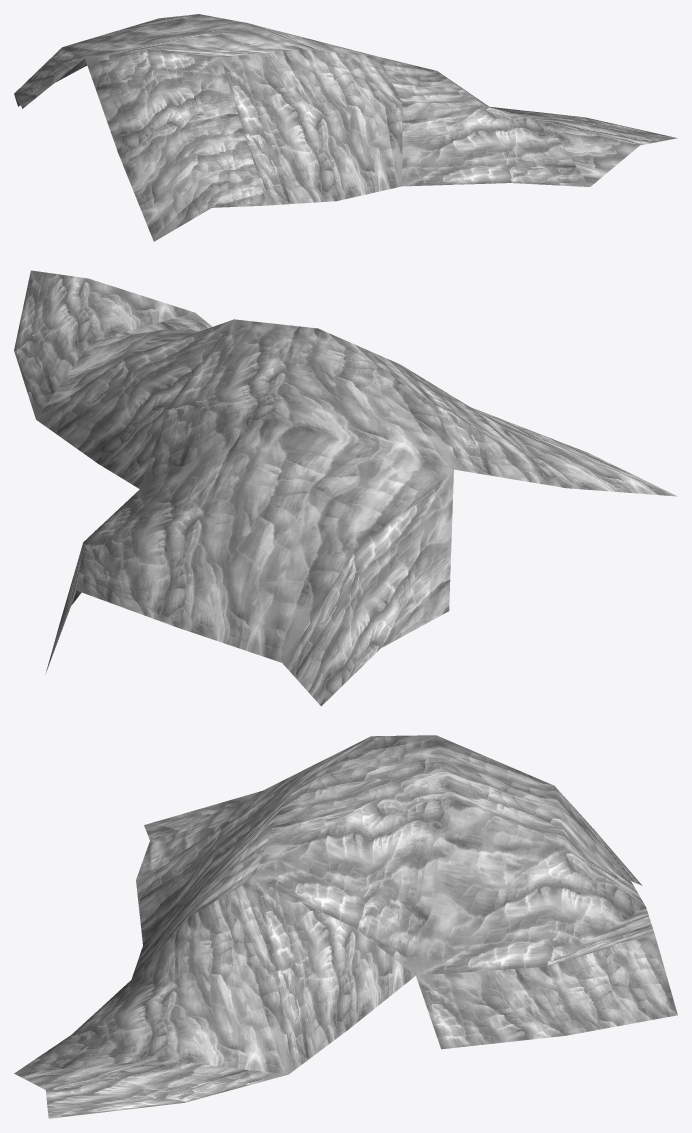
Rendered from SWORDLIGHT20_PS-AREA03_43.fbx.
3 views of the same model, one above another, from view 1: azimuth 30°, elevation 25°; view 2: azimuth 150°, elevation 25°; view 3: azimuth 270°, elevation 25° (orthographic). The views are drawn at different scales.
Parts seen in each view (by area): view 1: SWORDLIGHT20_PS-AREA03_43; view 2: SWORDLIGHT20_PS-AREA03_43; view 3: SWORDLIGHT20_PS-AREA03_43.
Part boxes in pixels (left/top/right/bottom): SWORDLIGHT20_PS-AREA03_43: left=14, top=14, right=677, bottom=241; SWORDLIGHT20_PS-AREA03_43: left=14, top=270, right=677, bottom=706; SWORDLIGHT20_PS-AREA03_43: left=14, top=735, right=677, bottom=1118.
Bounding box in the file's own units: 218040 × 60751 × 198123.
Materials: 3 (3 with a texture image).
